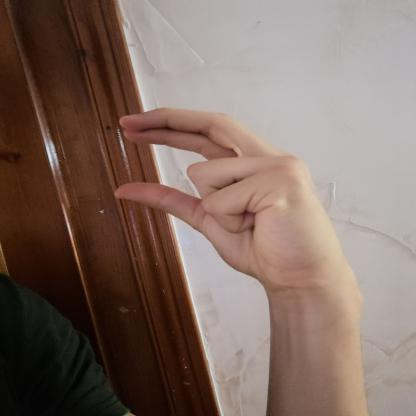DHELL: (101, 97, 356, 293)
